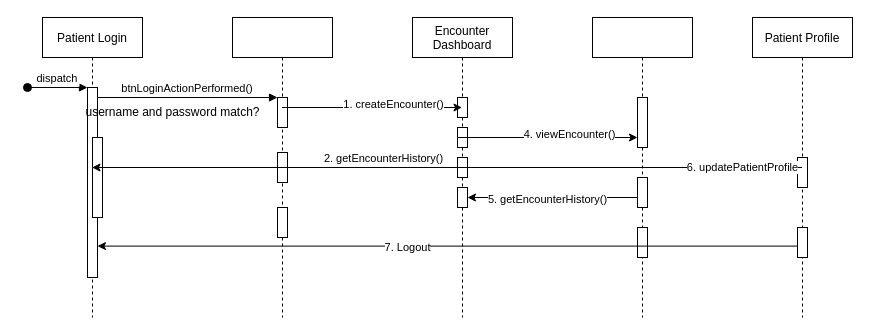
Image size: 870x335. Some labels were removed from this diagram. The shapes that lost their labels are listed below. From the top down, each one's centre as x and y in pixels, then its label:
pixel 282 167: Patient Dashboard
pixel 642 167: Encounter History
